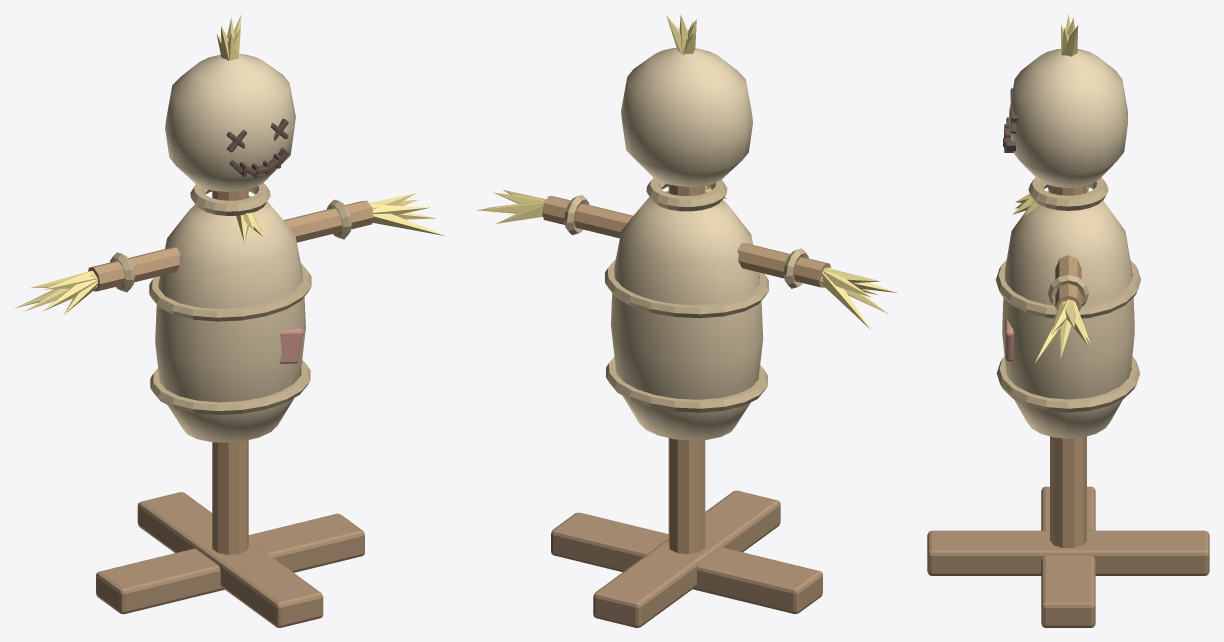
The model's file is TrainingDummy.fbx.
The picture shows the model from 3 angles, left to right: view 1: azimuth 30°, elevation 25°; view 2: azimuth 150°, elevation 25°; view 3: azimuth 270°, elevation 25°; orthographic projection.
Parts seen in each view (by area): view 1: Burlap, Feet, Head, Wood, Rope, Straw, Stitch, Patch; view 2: Burlap, Feet, Head, Wood, Rope, Straw; view 3: Burlap, Feet, Head, Rope, Wood, Straw, Stitch.
Boxes of the visible parts, x1,y1,x2,y2 form: Burlap: [155, 196, 305, 442]; Feet: [96, 492, 364, 627]; Head: [165, 54, 295, 191]; Wood: [88, 189, 373, 554]; Rope: [110, 183, 351, 414]; Straw: [15, 14, 445, 314]; Stitch: [226, 118, 288, 177]; Patch: [279, 328, 303, 363]; Burlap: [610, 191, 763, 440]; Feet: [551, 490, 822, 627]; Head: [621, 47, 752, 186]; Wood: [542, 184, 831, 554]; Rope: [564, 178, 808, 412]; Straw: [476, 14, 897, 329]; Burlap: [1002, 191, 1134, 438]; Feet: [927, 486, 1209, 627]; Head: [1009, 49, 1127, 187]; Rope: [996, 177, 1140, 412]; Wood: [1050, 185, 1086, 547]; Straw: [1012, 14, 1090, 362]; Stitch: [1003, 88, 1018, 152].
Size of the model in its own units: 4.31 by 5.64 by 2.6.
